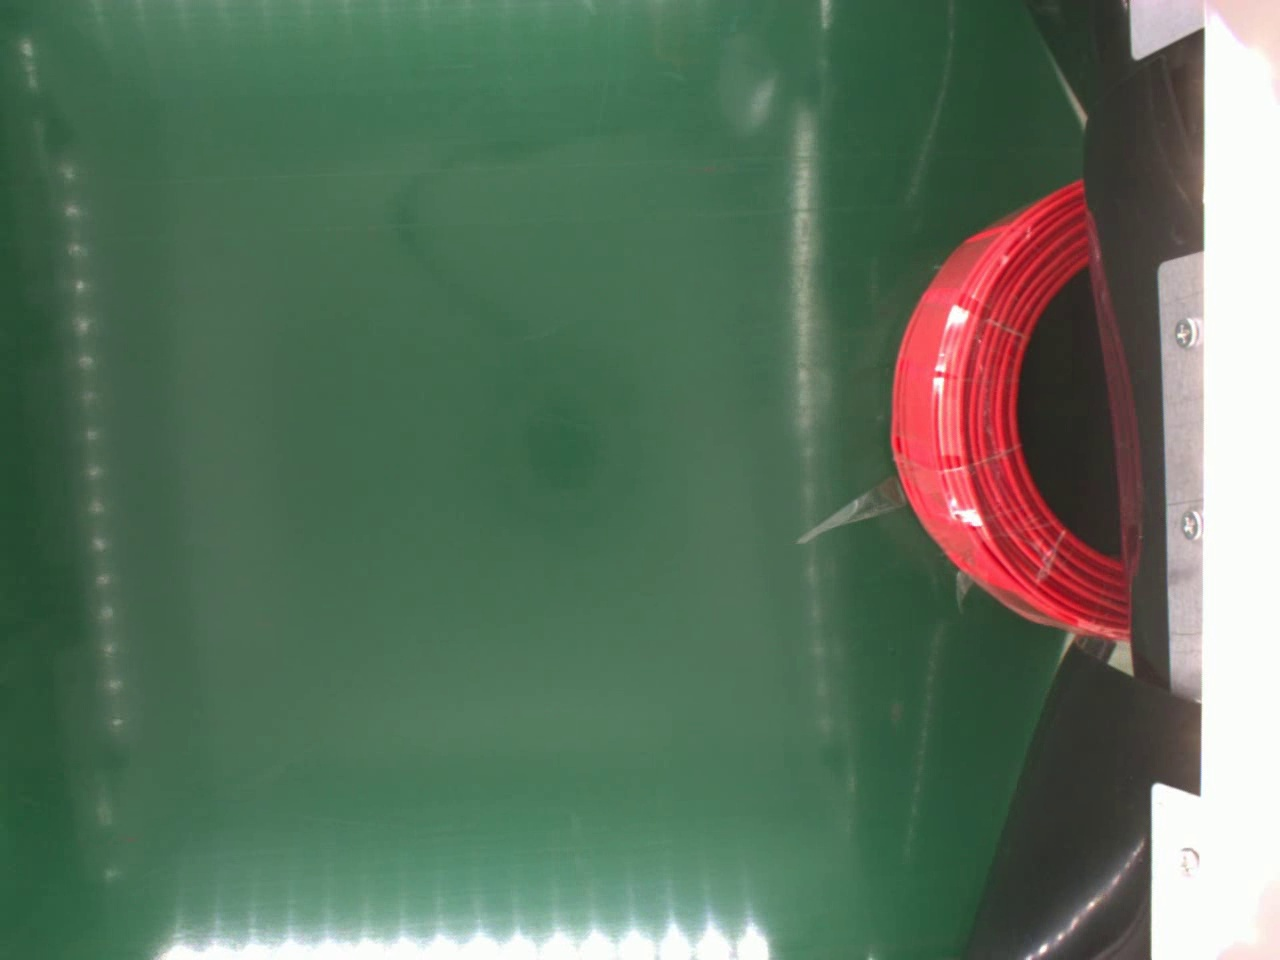red: (888, 174, 1132, 640)
